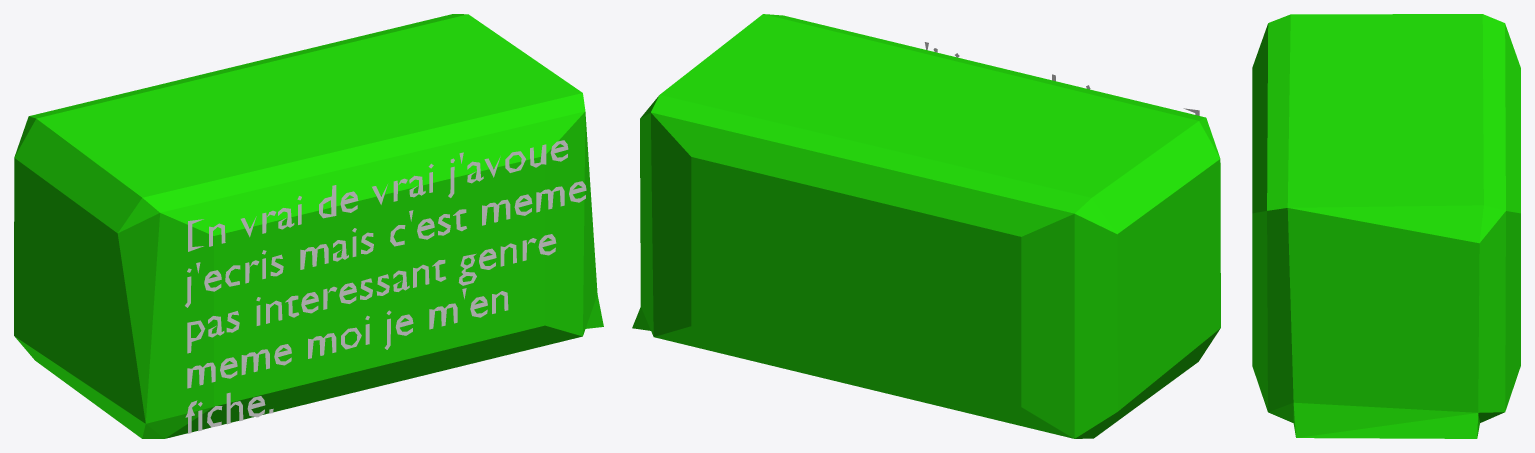
File: message3.fbx
3 views of the same model, side by side, from view 1: azimuth 30°, elevation 25°; view 2: azimuth 150°, elevation 25°; view 3: azimuth 270°, elevation 25° (orthographic). The views are drawn at different scales.
Visible parts, largest first — view 1: Cube.007; view 2: Cube.007; view 3: Cube.007.
Boxes of the visible parts, x1,y1,x2,y2 form: Cube.007: [14, 14, 603, 438]; Cube.007: [632, 14, 1220, 438]; Cube.007: [1252, 14, 1520, 438].
Size of the model in its own units: 269 by 130 by 144.
